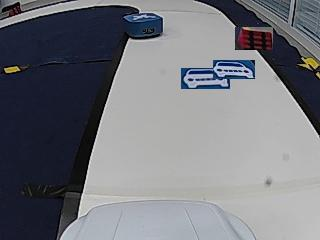prop: (124, 13, 163, 39)
